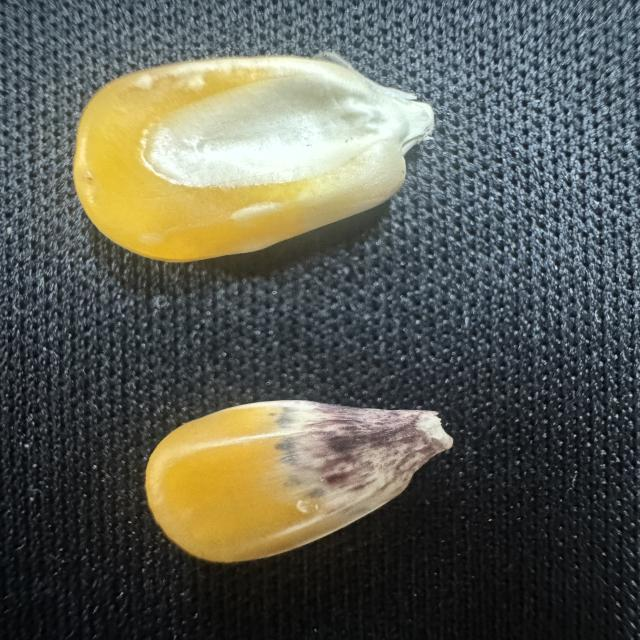Bad-Seed: (137, 392, 452, 568)
Good-Seed: (67, 47, 441, 270)
